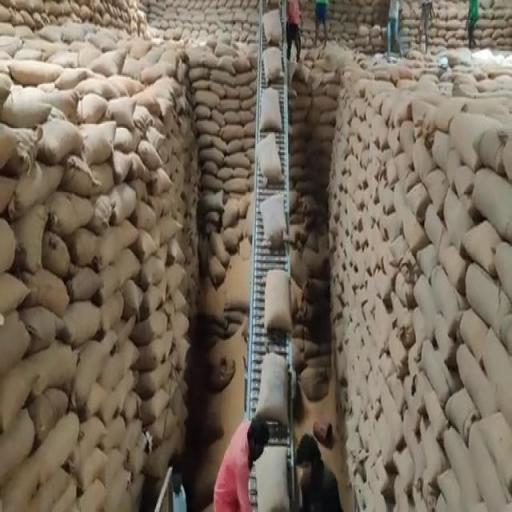c-belt-sack-count: (255, 353, 287, 426), (256, 447, 290, 511), (265, 269, 290, 332), (259, 193, 286, 247), (256, 135, 282, 182)
